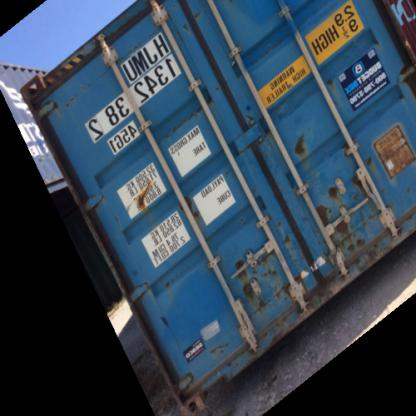Damage: (312, 169, 374, 269), (234, 248, 295, 323), (126, 173, 157, 213), (288, 125, 314, 165), (206, 336, 235, 358)
